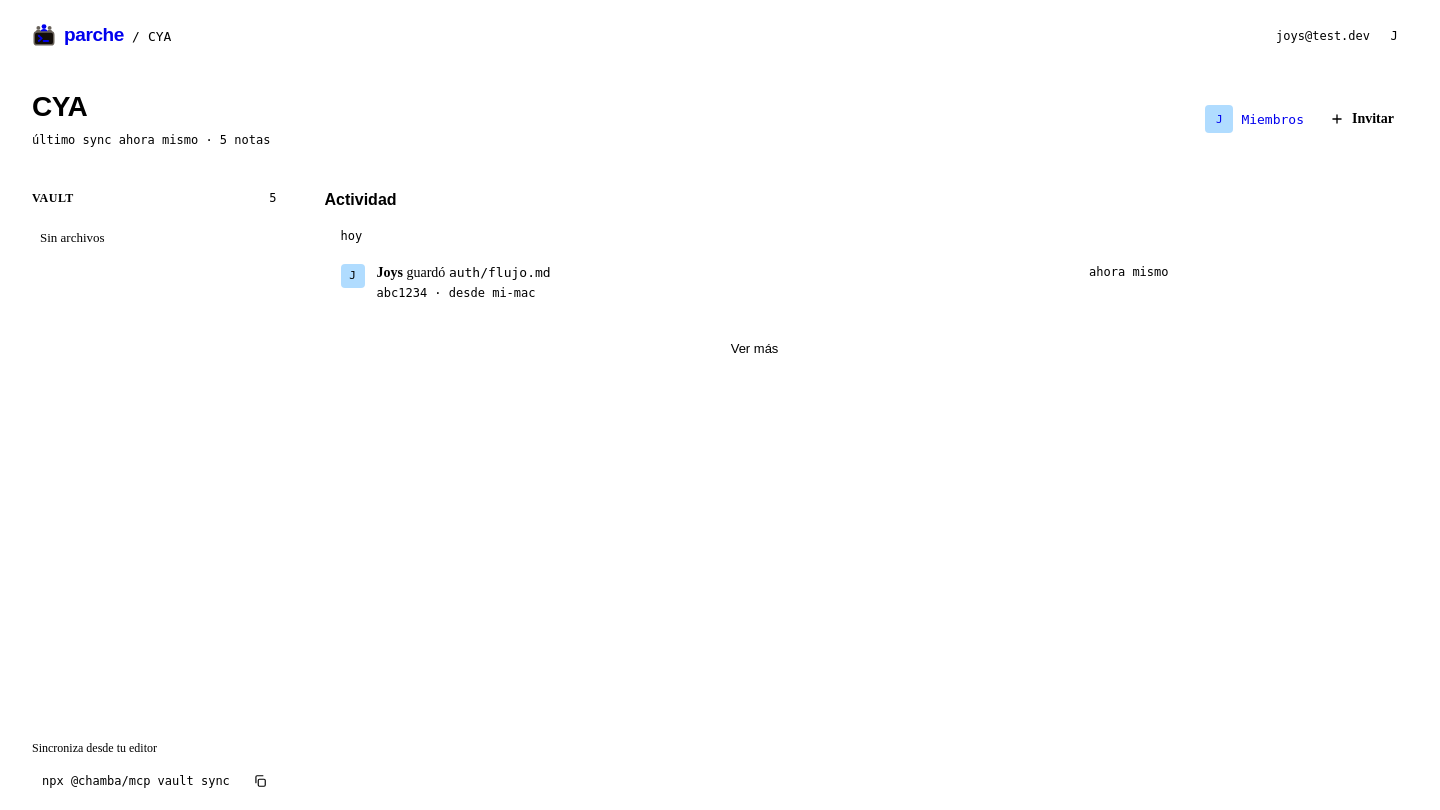
DashboardPage › shows "Ver más" button when hasMore is true and loads more on click
Click the button "Ver más": (755, 348) [717,332,792,364]
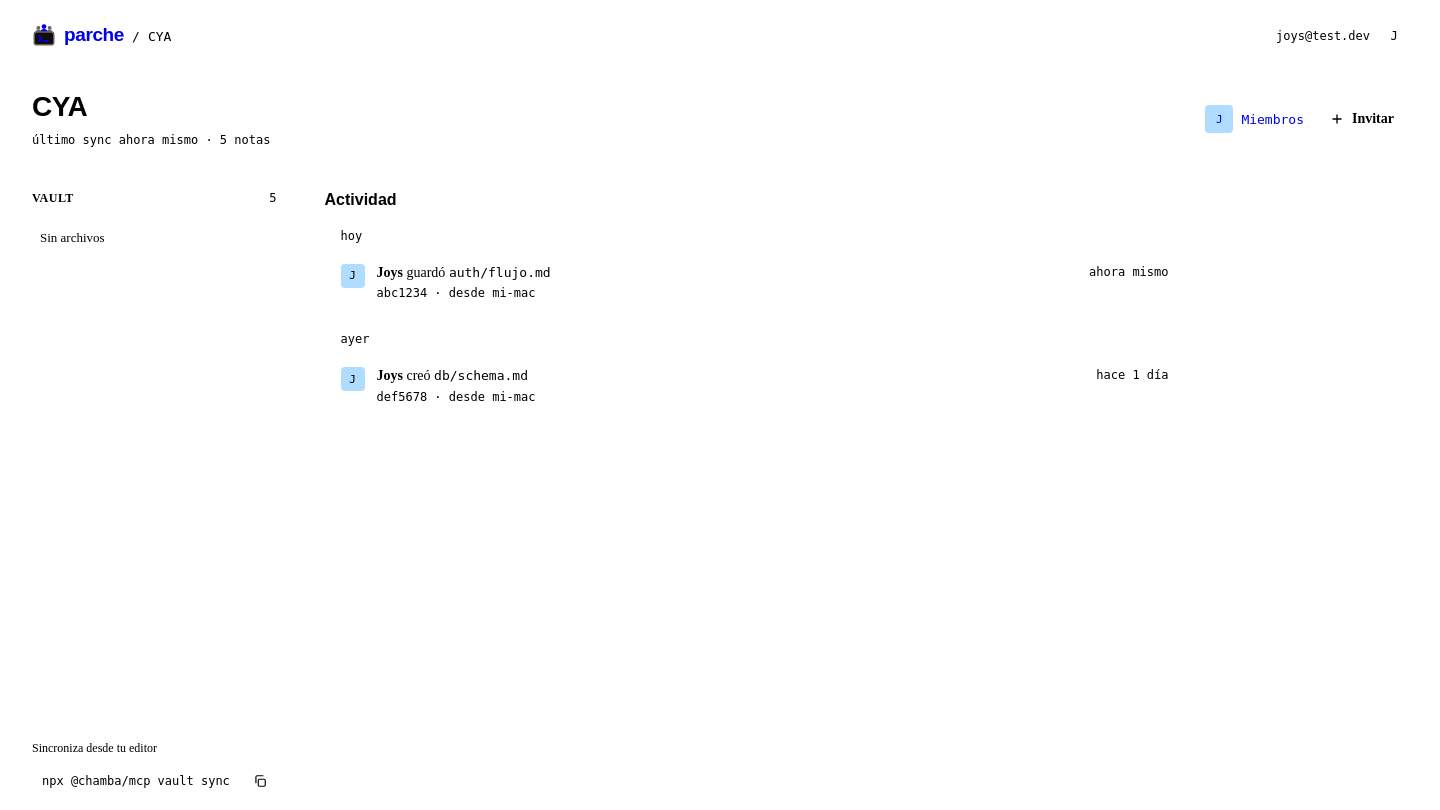
Expected: the text "db/schema.md" is shown, [434,368,528,383]
Expected: the button "Ver más" is gone
